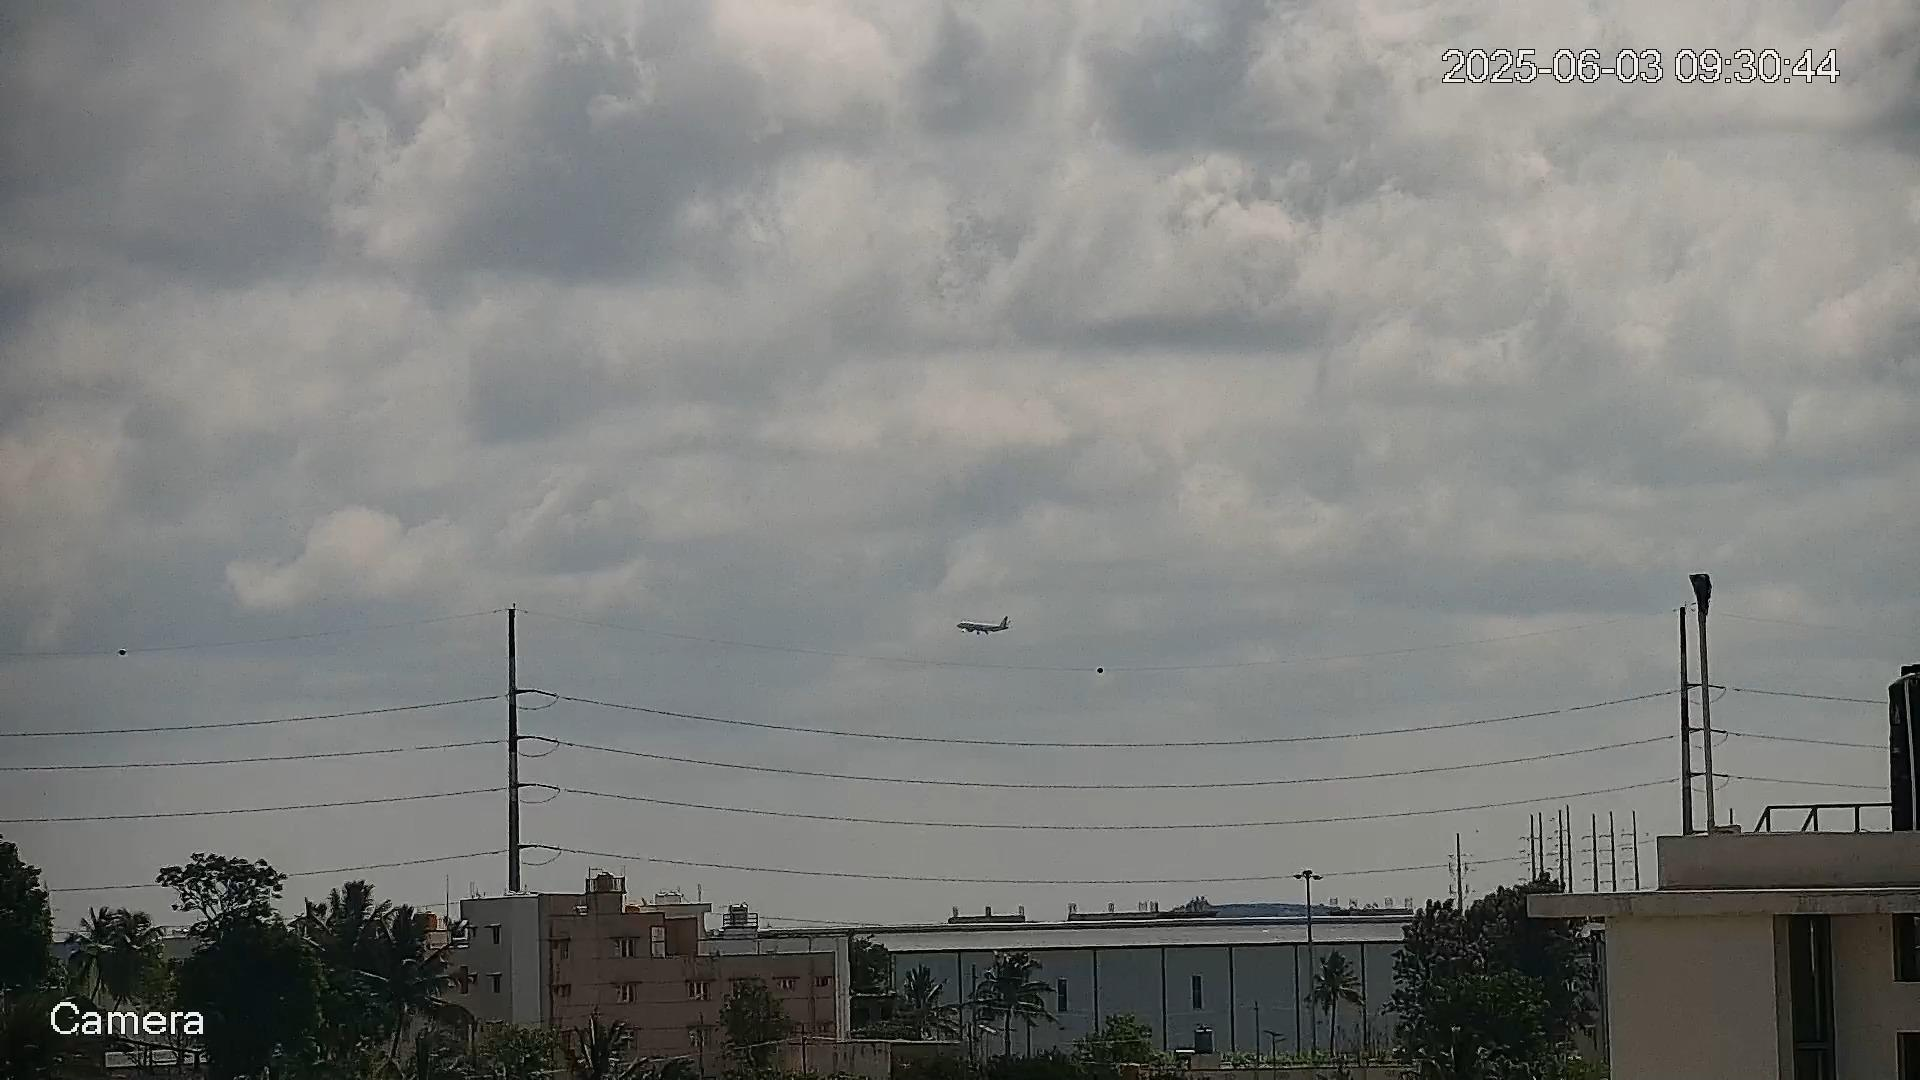Aircraft: (955, 615, 1013, 637)
